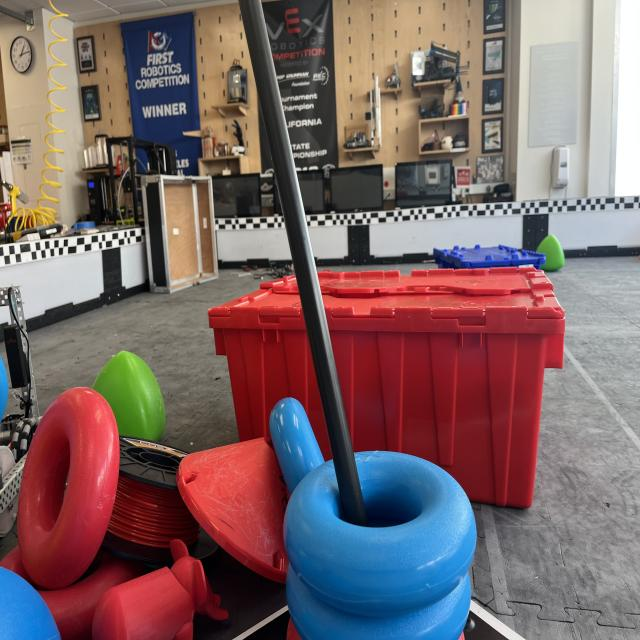Blue-Ring: (284, 452, 476, 617), (286, 565, 471, 640), (269, 398, 324, 493)
Red-Ring: (18, 387, 120, 588)
